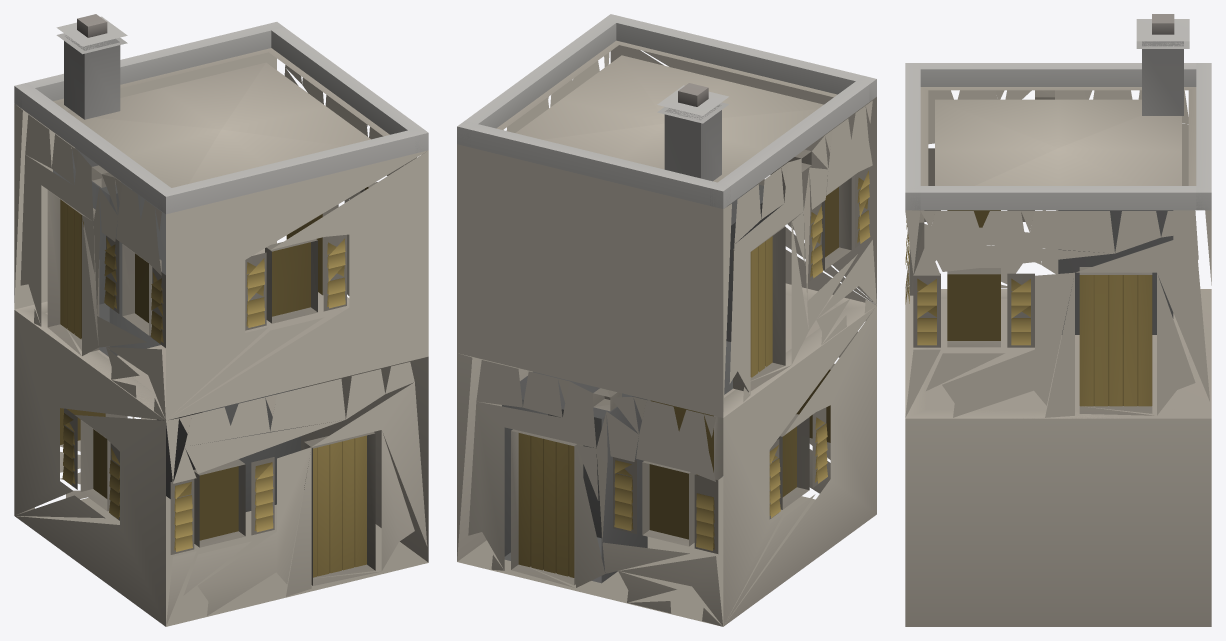
3 renders of one model, left to right at view 1: azimuth 30°, elevation 25°; view 2: azimuth 150°, elevation 25°; view 3: azimuth 270°, elevation 25°, orthographic.
Parts seen in each view (by area): view 1: cube2c; view 2: cube2c; view 3: cube2c.
Part boxes in pixels (x1,y1,x2,y2): cube2c: [14, 14, 428, 626]; cube2c: [457, 14, 876, 626]; cube2c: [905, 14, 1211, 626].
Size of the model in its own units: 4.4 by 8 by 4.4.
